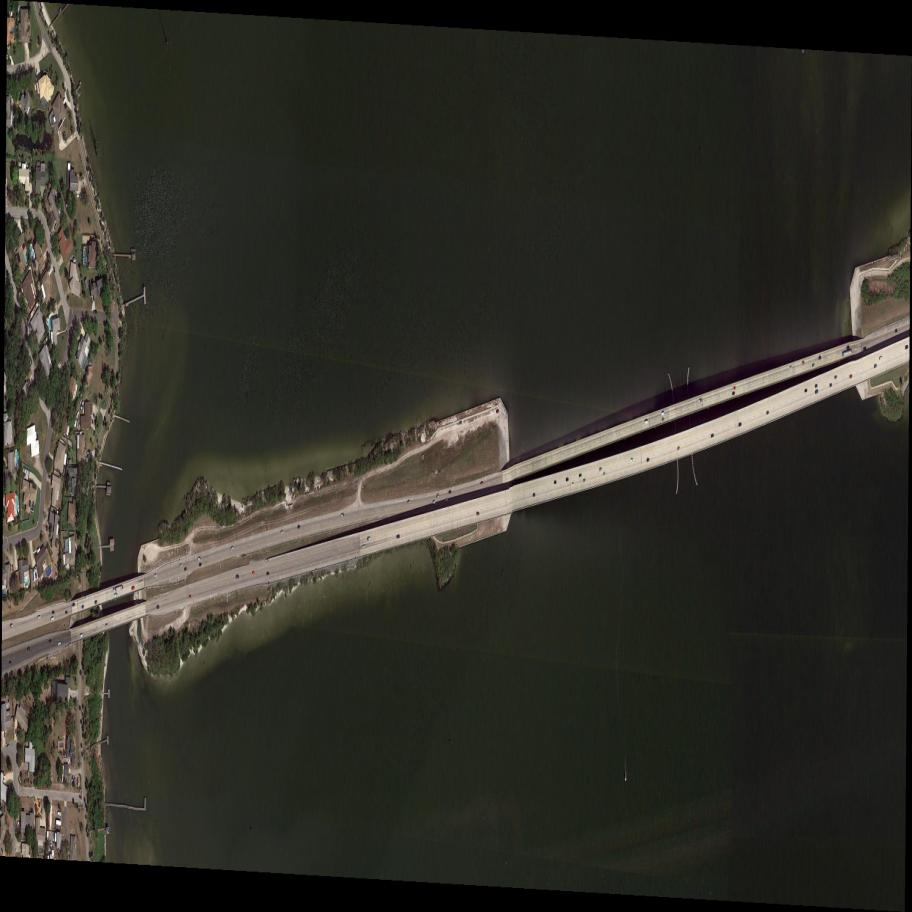large-vehicle: (111, 585, 125, 596), (841, 349, 853, 358)
ship: (80, 400, 85, 411), (77, 419, 79, 429), (78, 424, 80, 432)
small-vehicle: (54, 223, 58, 231), (406, 500, 412, 505), (1, 847, 4, 856), (803, 388, 808, 393), (828, 383, 833, 388), (184, 566, 188, 572), (53, 265, 56, 273), (367, 536, 371, 542), (801, 361, 805, 366), (27, 646, 31, 651), (48, 639, 52, 644), (94, 601, 99, 605), (178, 563, 183, 567), (553, 480, 557, 485), (340, 513, 344, 518), (156, 605, 160, 610), (50, 842, 52, 851), (65, 610, 68, 616), (105, 622, 108, 628), (154, 573, 157, 579), (645, 420, 648, 426), (36, 69, 38, 78), (17, 821, 21, 825), (50, 617, 54, 621), (72, 603, 76, 607), (733, 386, 737, 390), (879, 356, 883, 360), (198, 563, 202, 567), (266, 572, 270, 576), (280, 530, 284, 534), (362, 544, 366, 548), (396, 535, 400, 539), (432, 500, 436, 504), (480, 482, 484, 486), (80, 632, 83, 637), (38, 615, 41, 620), (236, 574, 239, 579), (661, 412, 664, 417), (766, 410, 769, 415), (814, 385, 819, 388), (835, 374, 838, 379), (449, 490, 452, 495), (9, 662, 12, 666), (58, 642, 61, 646), (81, 605, 84, 609), (132, 586, 135, 590), (230, 547, 233, 551), (533, 494, 536, 498), (566, 478, 569, 482), (579, 474, 582, 478), (678, 447, 681, 451), (711, 435, 714, 439), (789, 366, 792, 370), (583, 479, 586, 483), (815, 391, 818, 395), (646, 458, 649, 462), (603, 472, 606, 476), (252, 571, 255, 575), (189, 595, 192, 599), (94, 309, 97, 313), (297, 525, 301, 528), (496, 409, 499, 413), (437, 495, 440, 499), (7, 744, 9, 749), (662, 417, 664, 422), (10, 625, 13, 628), (738, 423, 741, 426), (732, 391, 735, 394), (630, 459, 633, 462), (477, 512, 480, 515), (812, 364, 814, 368), (52, 610, 54, 614), (198, 557, 200, 561), (699, 399, 701, 403), (92, 297, 93, 305), (600, 468, 602, 471)
